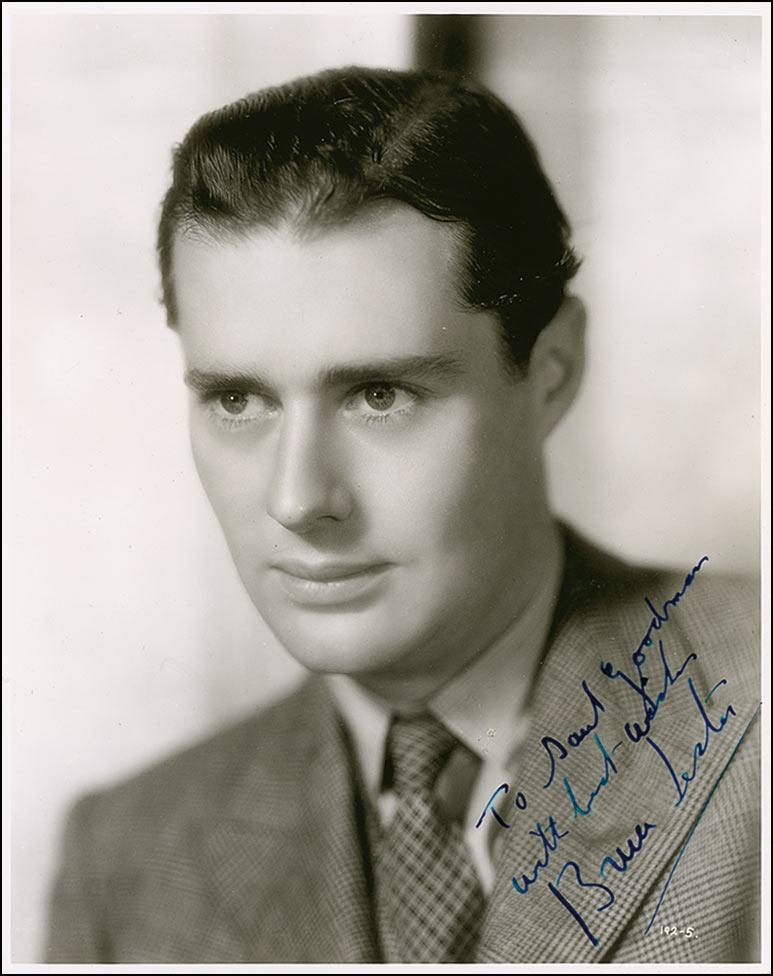bad: (118, 247, 504, 632)
